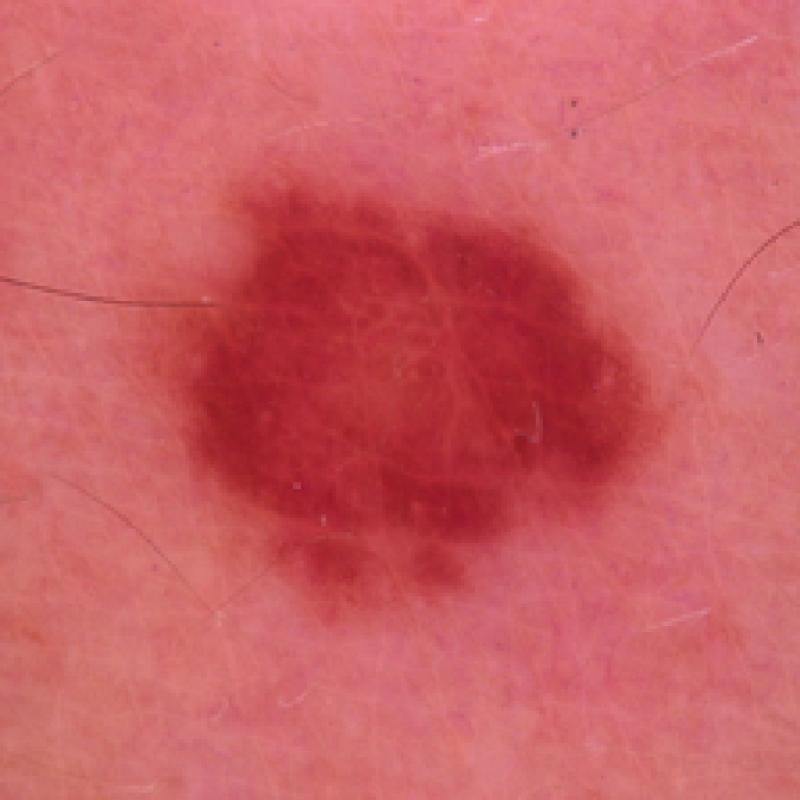benign: (157, 161, 670, 632)
